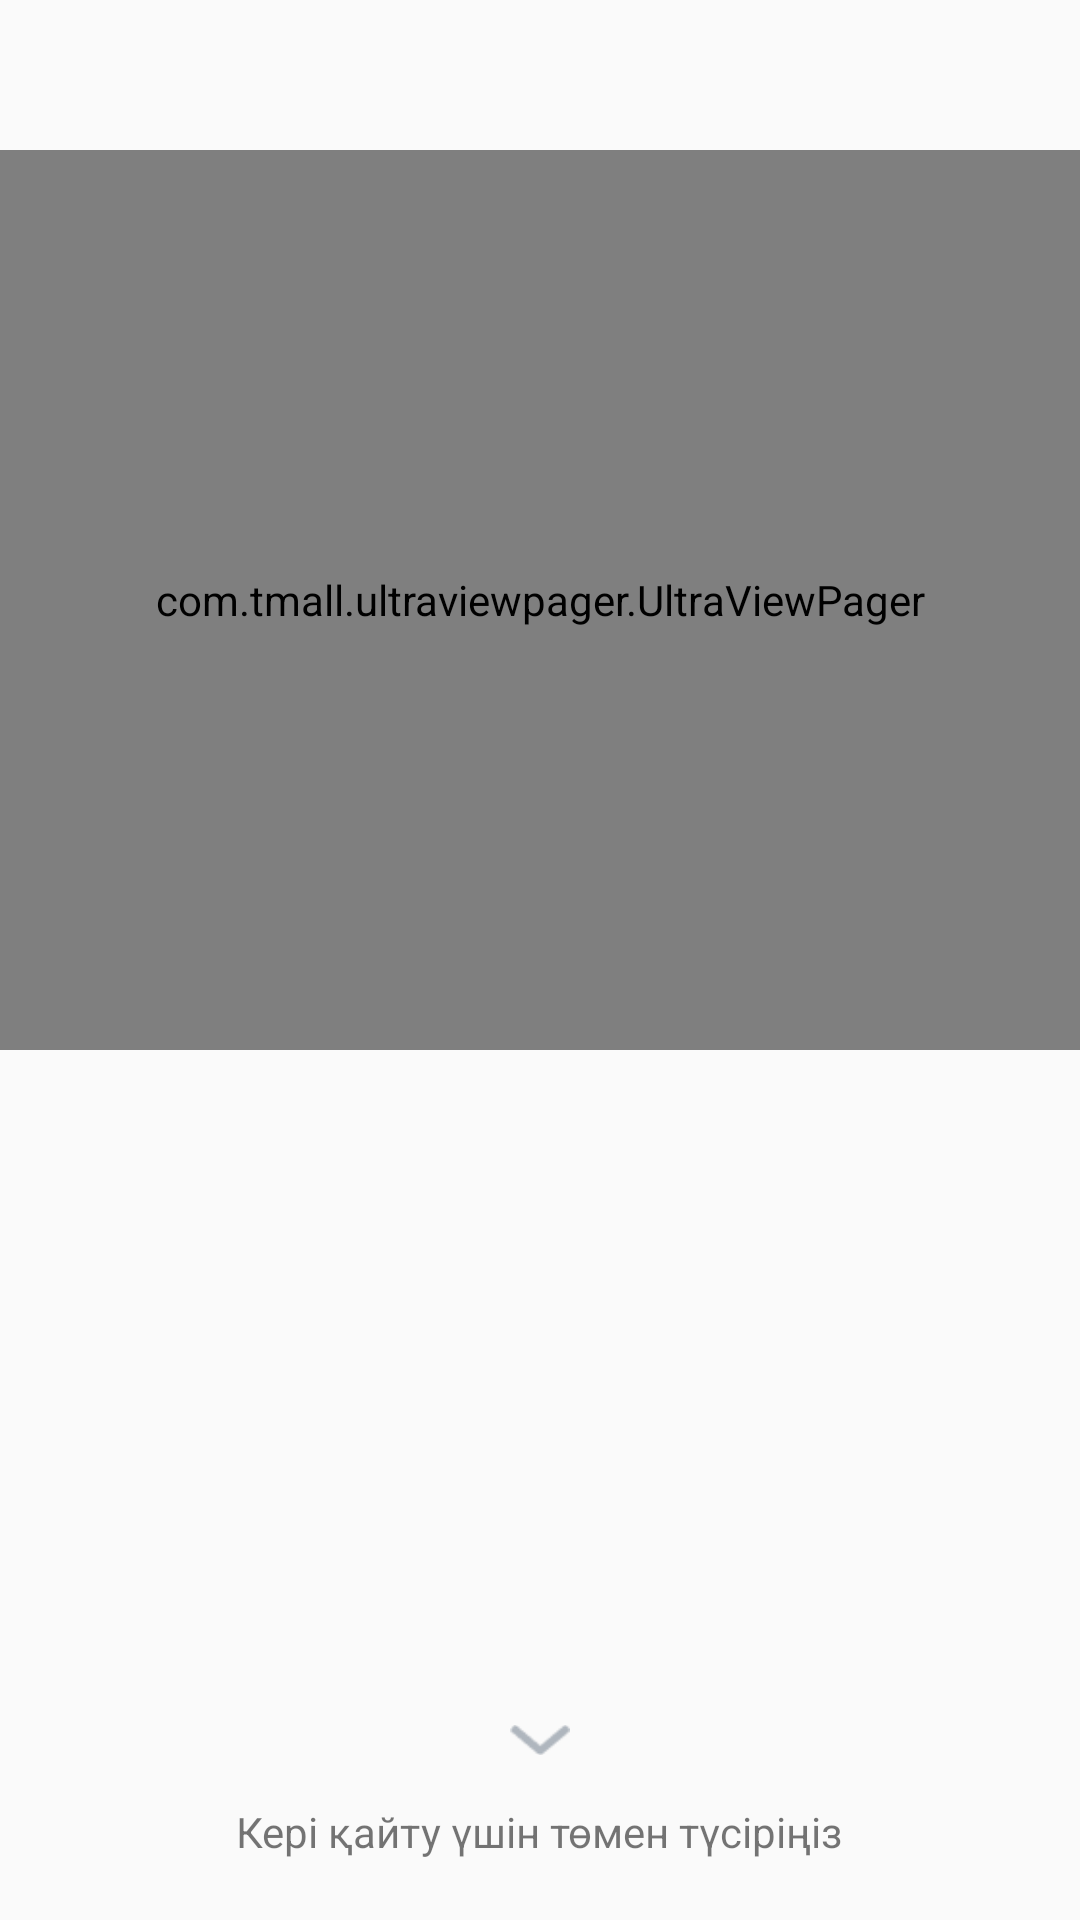

Icons on this 1080 x 1920 Android screen, each with its box as (x1,y1,x2,y2):
arrow down: (510,1725,570,1755)
